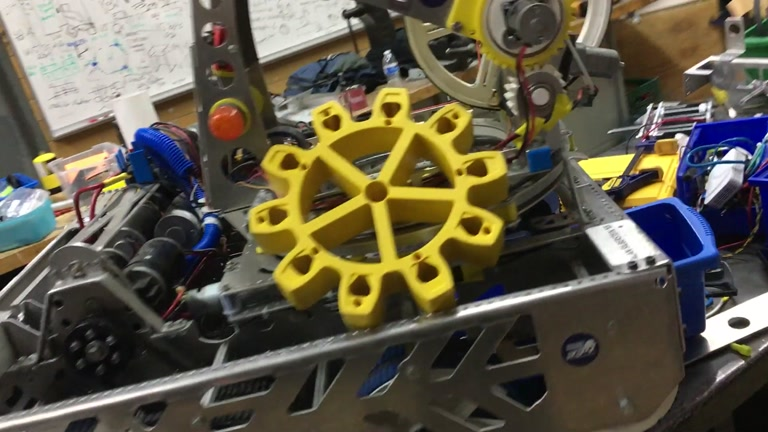gear: (247, 86, 510, 332)
